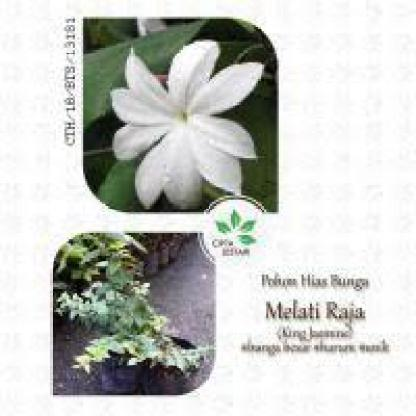Melati: (101, 51, 257, 196)
